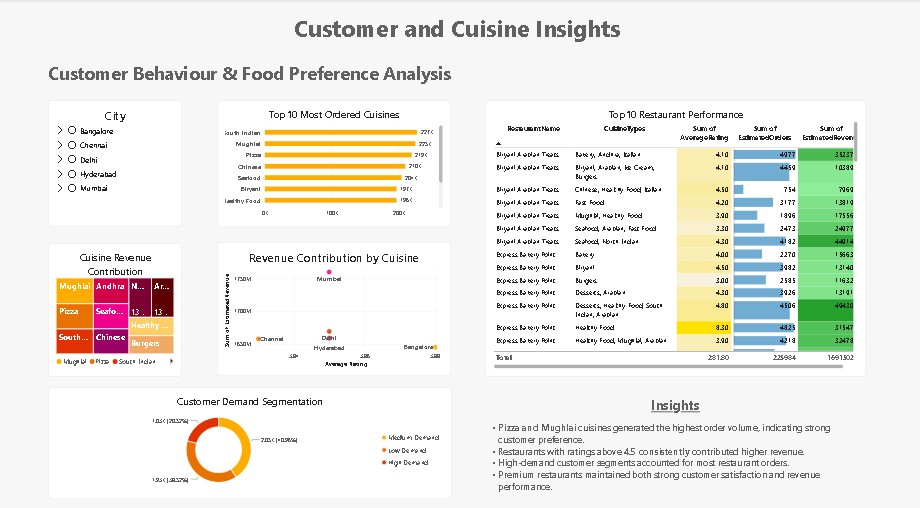

The page's visual inventory and layout, read from the dashboard file:
{"tool":"powerbi","page":{"name":"Customer & Cuisine Insights","canvas":[1920,1080],"ordinal":3},"visuals":[{"type":"treemap","title":"Cuisine Revenue Contribution","fields":{"Group":["Restaurants_Clean.CuisineTypes"],"Values":["Sum(Restaurants_Clean.EstimatedRevenue)"]},"box":[100,510,280,278.6],"z":0},{"type":"scatterChart","title":"Revenue Contribution by Cuisine","fields":{"Series":["Restaurants_Clean.City"],"X":["Restaurants_Clean.Average Rating"],"Y":["Sum(Restaurants_Clean.EstimatedRevenue)"]},"box":[454.3,508.6,488.6,280],"z":1000},{"type":"donutChart","title":"Customer Demand Segmentation","fields":{"Category":["Restaurants_Clean.Demand Category"],"Y":["CountNonNull(Restaurants_Clean.RestaurantName)"]},"box":[100,811.4,842.9,234.3],"z":2000},{"type":"listSlicer","fields":{"Values":["Restaurants_Clean.City","Restaurants_Clean.CuisineTypes","Restaurants_Clean.DiscountPercentage"]},"box":[100,211.4,280,264.3],"z":4000},{"type":"textbox","box":[100,26.7,1710,156.7],"z":5000},{"type":"clusteredBarChart","title":"Top 10 Most Ordered Cuisines","fields":{"Category":["Restaurants_Clean.CuisineTypes"],"Y":["Sum(Restaurants_Clean.EstimatedOrders)"]},"box":[454.3,211.4,488.6,265.7],"z":6000},{"type":"tableEx","title":"Top 10 Restaurant Performance","fields":{"Values":["Restaurants_Clean.RestaurantName","Restaurants_Clean.CuisineTypes","Sum(Restaurants_Clean.AverageRating)","Sum(Restaurants_Clean.EstimatedOrders)","Sum(Restaurants_Clean.EstimatedRevenue)"]},"box":[1013.8,210,796.2,577.5],"z":7000},{"type":"textbox","box":[1344,830,136,68],"z":8000},{"type":"textbox","box":[1014,882,796,164],"z":9000}]}

Visuals, with their boxes in screenshot pixels (x1, y1, x2, y2), scaled from the page's 1920x1080 canvas onto the 920x508 screenshot:
"Cuisine Revenue Contribution" treemap: 48, 240, 182, 371
"Revenue Contribution by Cuisine" scatterChart: 218, 239, 452, 371
"Customer Demand Segmentation" donutChart: 48, 382, 452, 492
listSlicer - Restaurants_Clean.City x Restaurants_Clean.CuisineTypes: 48, 99, 182, 224
textbox: 48, 13, 867, 86
"Top 10 Most Ordered Cuisines" clusteredBarChart: 218, 99, 452, 224
"Top 10 Restaurant Performance" tableEx: 486, 99, 867, 370
textbox: 644, 390, 709, 422
textbox: 486, 415, 867, 492
